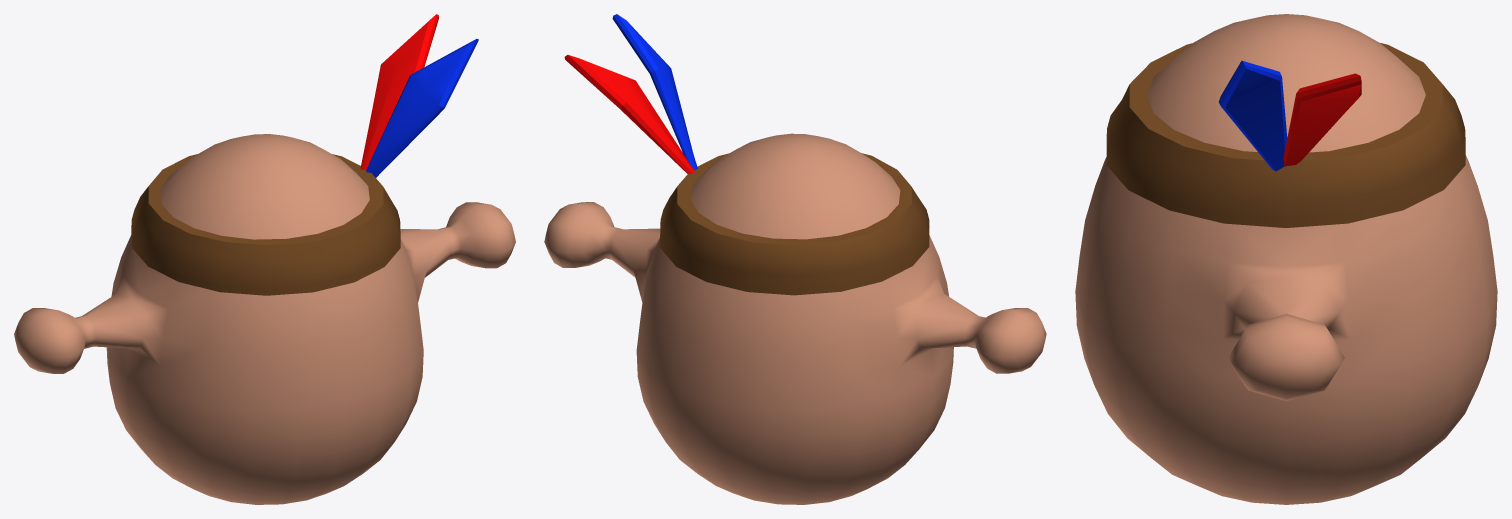
Rendered from Aboriginal_03.fbx.
3 views of the same model, side by side, from view 1: azimuth 30°, elevation 25°; view 2: azimuth 150°, elevation 25°; view 3: azimuth 270°, elevation 25° (orthographic). The views are drawn at different scales.
Visible parts, largest first — view 1: polySurface41; view 2: polySurface41; view 3: polySurface41.
Boxes of the visible parts, x1=… form: polySurface41: x1=14, y1=14, x2=515, y2=504; polySurface41: x1=544, y1=14, x2=1046, y2=504; polySurface41: x1=1075, y1=14, x2=1497, y2=504.
Bounding box in the file's own units: 89.19 × 72.62 × 50.7.
